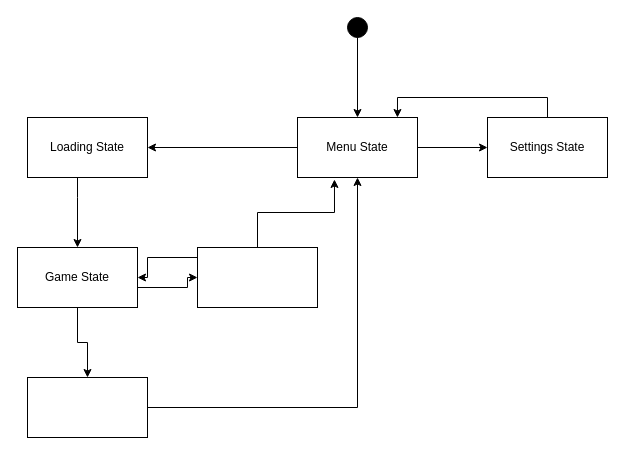
Image size: 625x455. Some labels were removed from this diagram. The centre of each missing label's shape, as x and y in pixels:
GameOver State: (x=87, y=407)
Pause State: (x=257, y=277)
